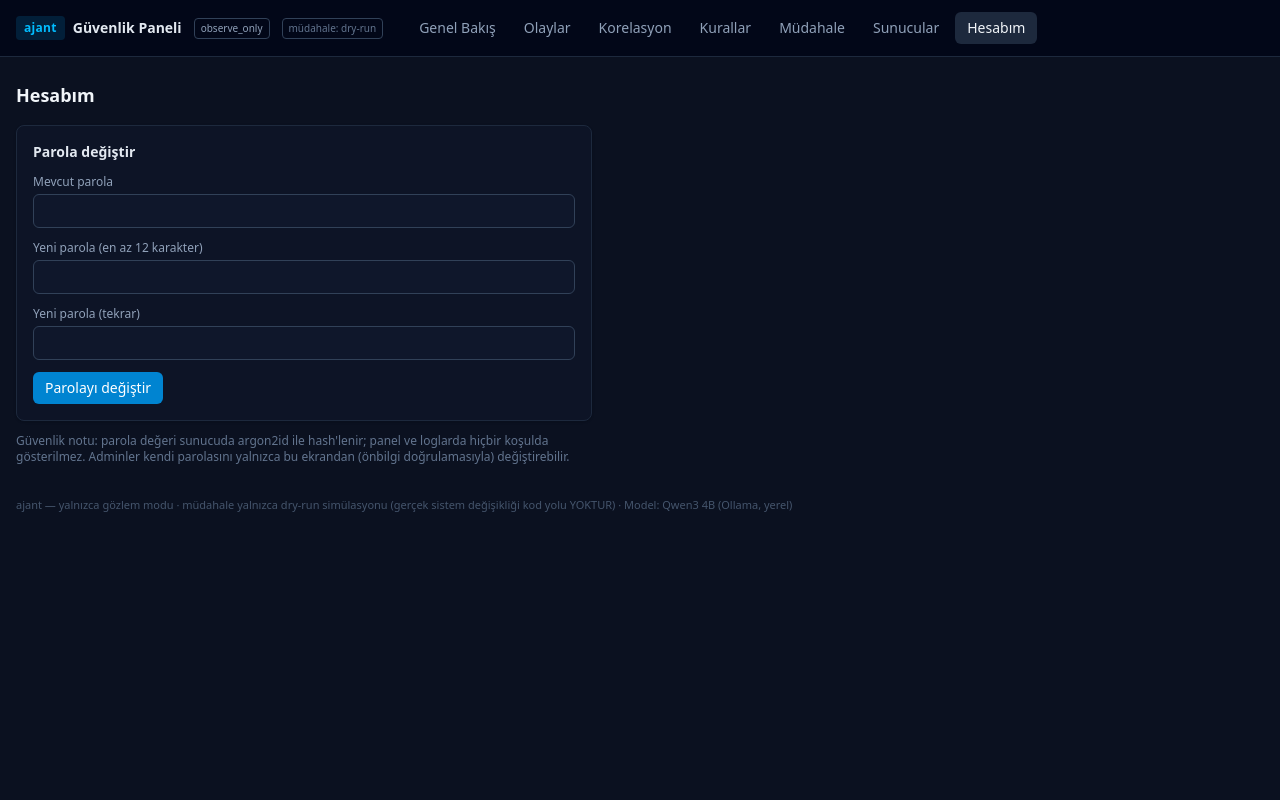
Hesabım sayfası (Faz 08) › 12 karakterden kısa parolada hata verir
Type "eski-parola-1234" into the password field labelled "Mevcut parola" at [304, 211], box [33, 194, 575, 228]
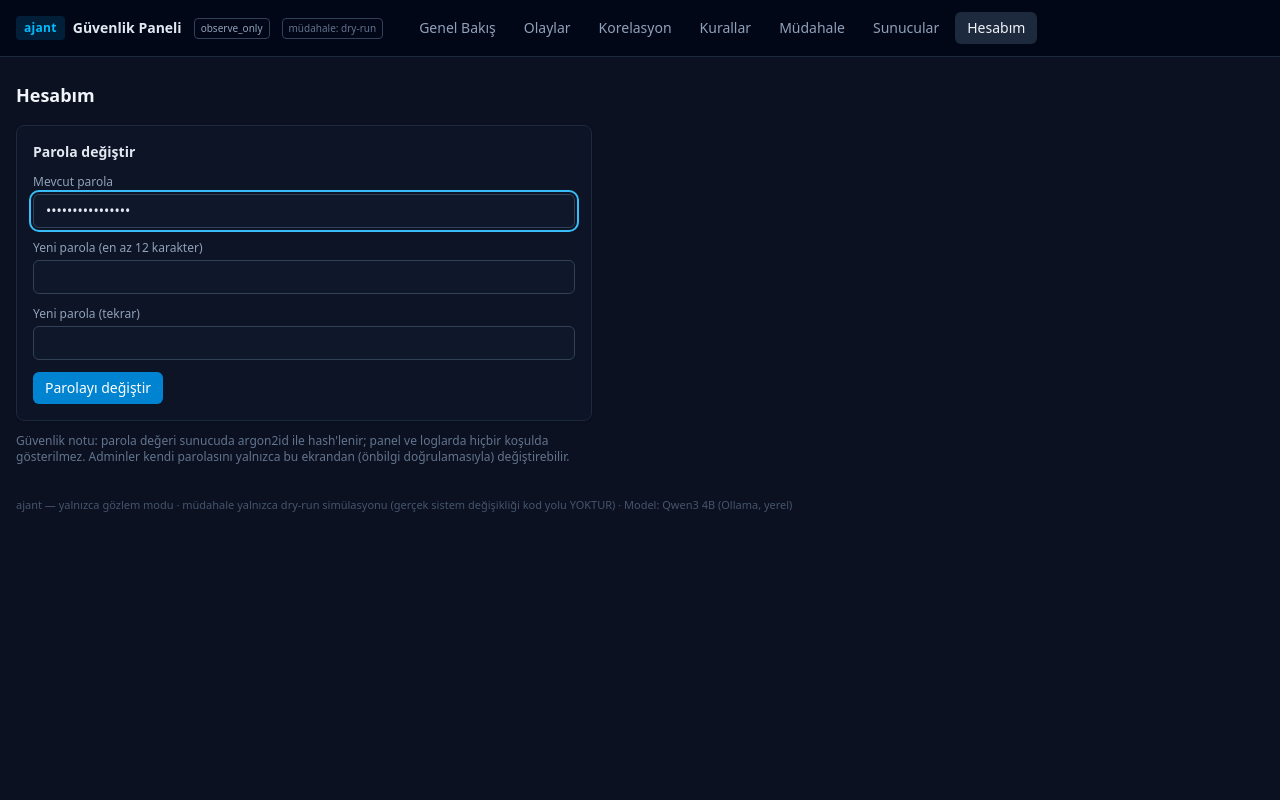
Type "kisa-123" into the password field labelled "Yeni parola (en az 12 karakter)" at [304, 277], box [33, 260, 575, 294]
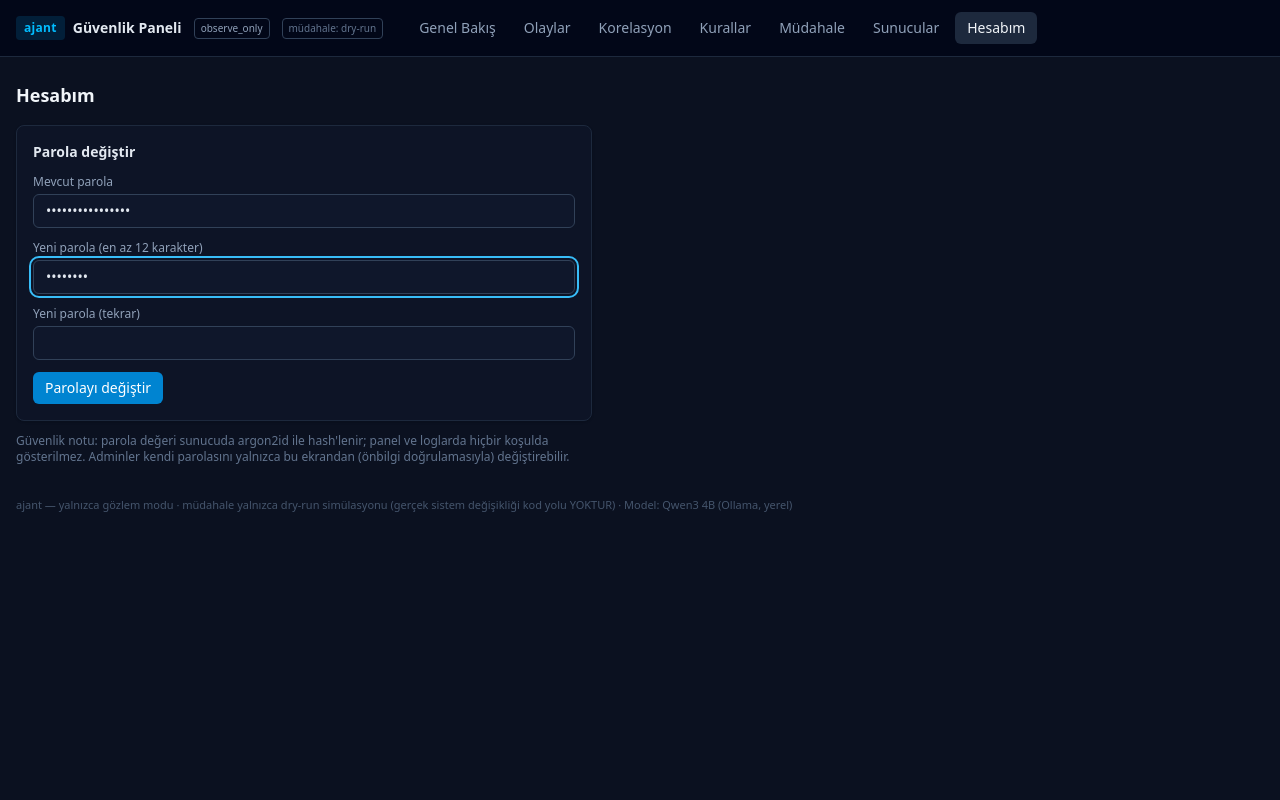
Type "kisa-123" into the password field labelled "Yeni parola (tekrar)" at [304, 343], box [33, 326, 575, 360]
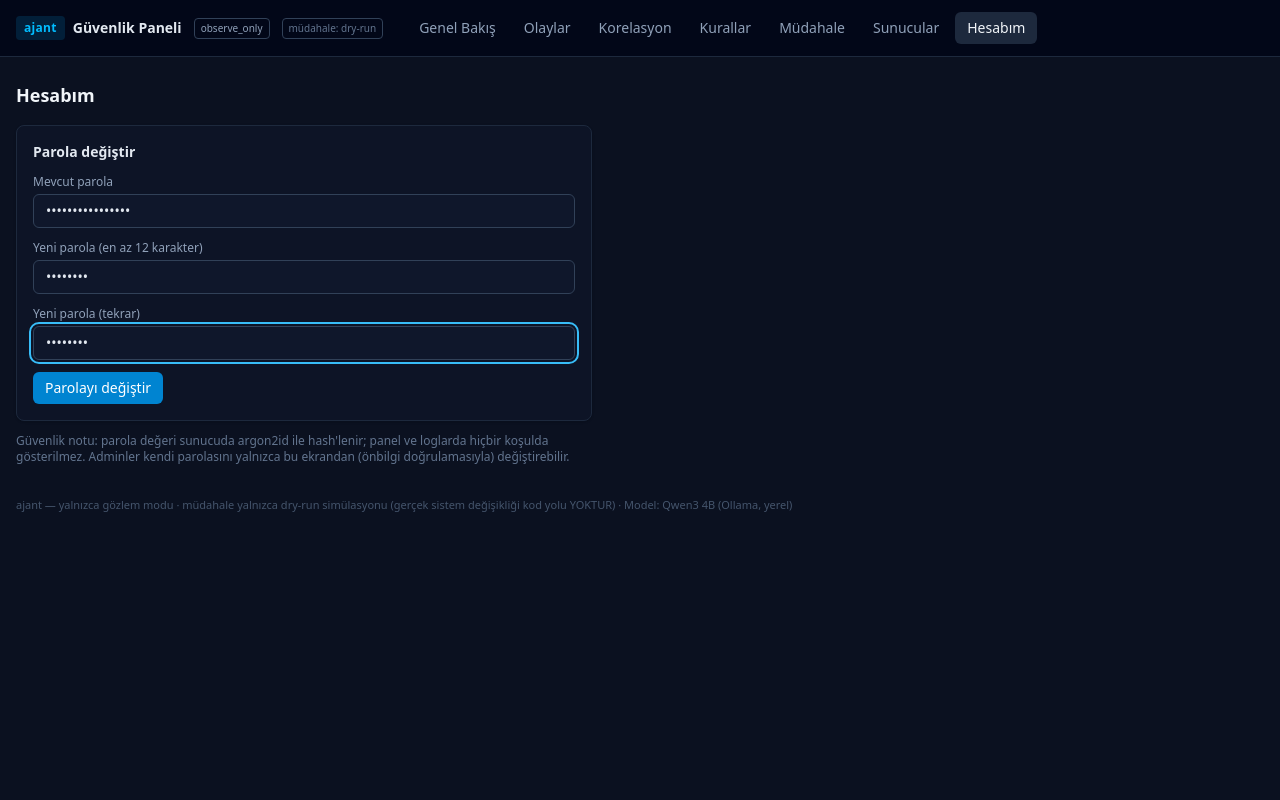
Click the button "Parolayı değiştir" at [98, 388], box [33, 372, 163, 404]
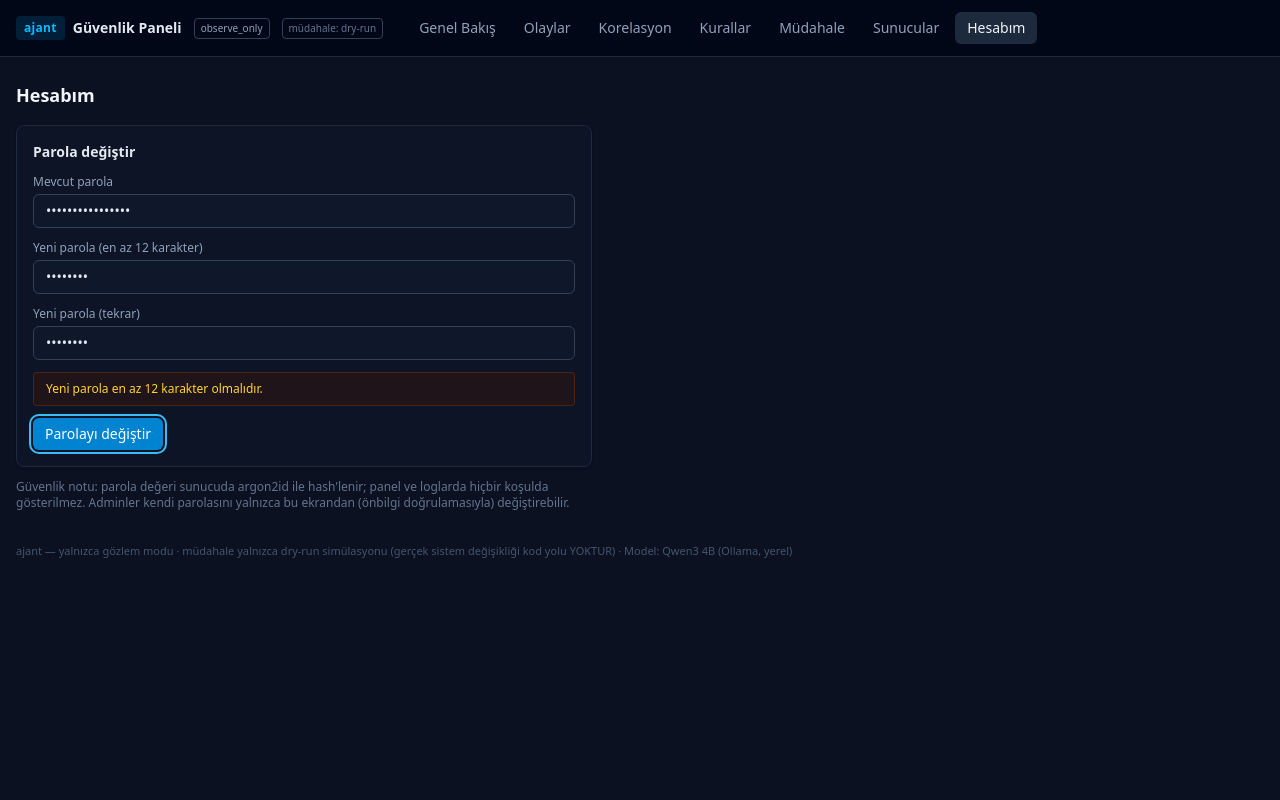
expect the message with test id "hesabim-error" shows "en az 12 karakter": met, box [46, 380, 263, 397]
